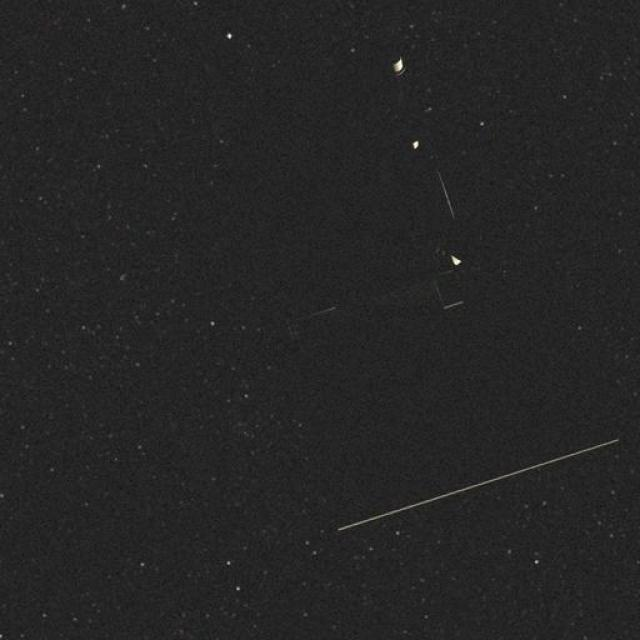proba_3_csc: (245, 125, 640, 540)
